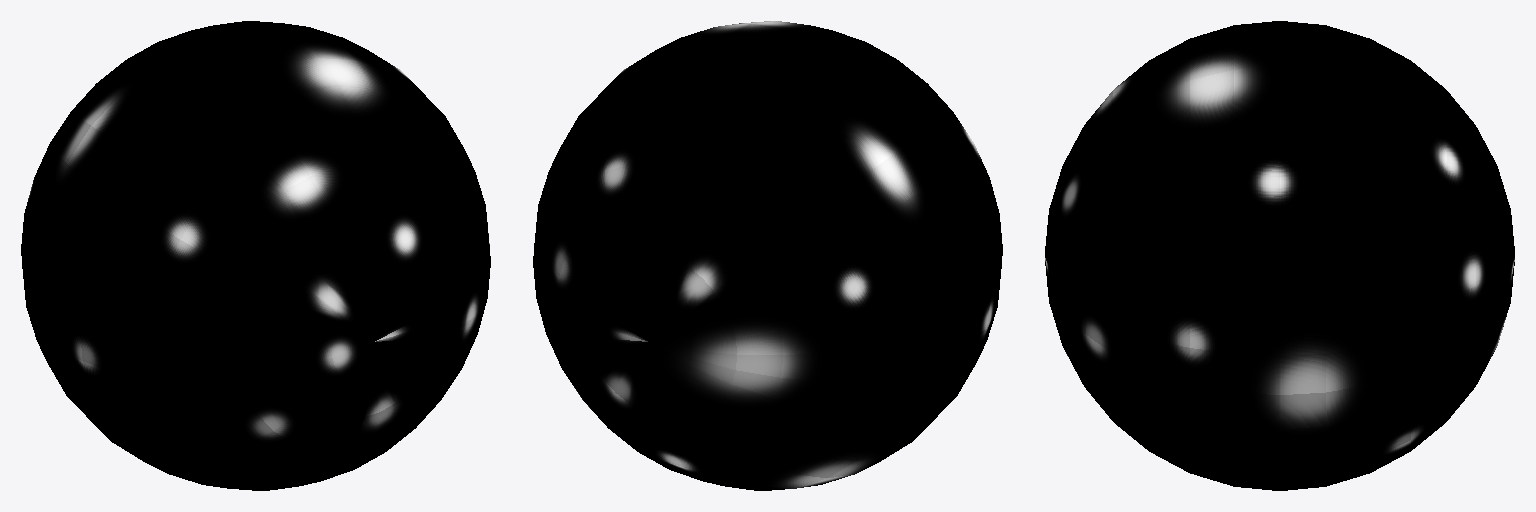
The picture shows the model from 3 angles: view 1: azimuth 30°, elevation 25°; view 2: azimuth 150°, elevation 25°; view 3: azimuth 270°, elevation 25°; orthographic projection.
Parts seen in each view (by area): view 1: Sphere; view 2: Sphere; view 3: Sphere.
Part boxes in pixels (x1,y1,x2,y2): Sphere: (21,21,490,490); Sphere: (533,21,1002,490); Sphere: (1045,21,1514,490).
Bounding box in the file's own units: 2 × 2 × 2.
1 materials, 1 textured.